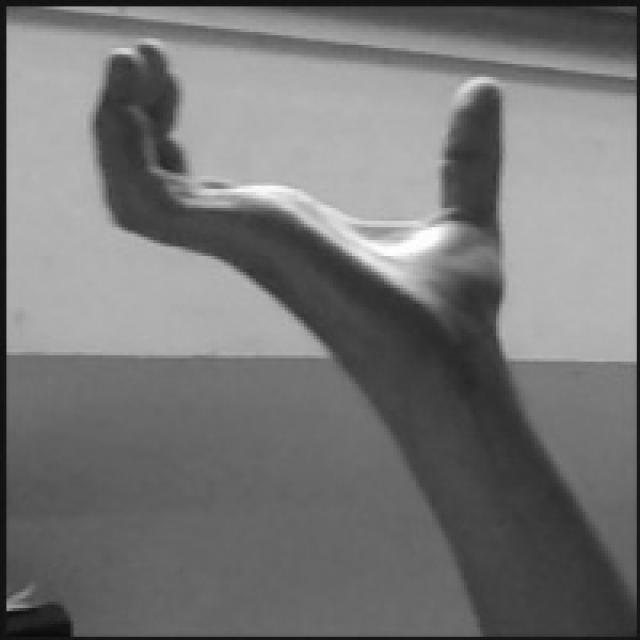space: (94, 34, 508, 342)
